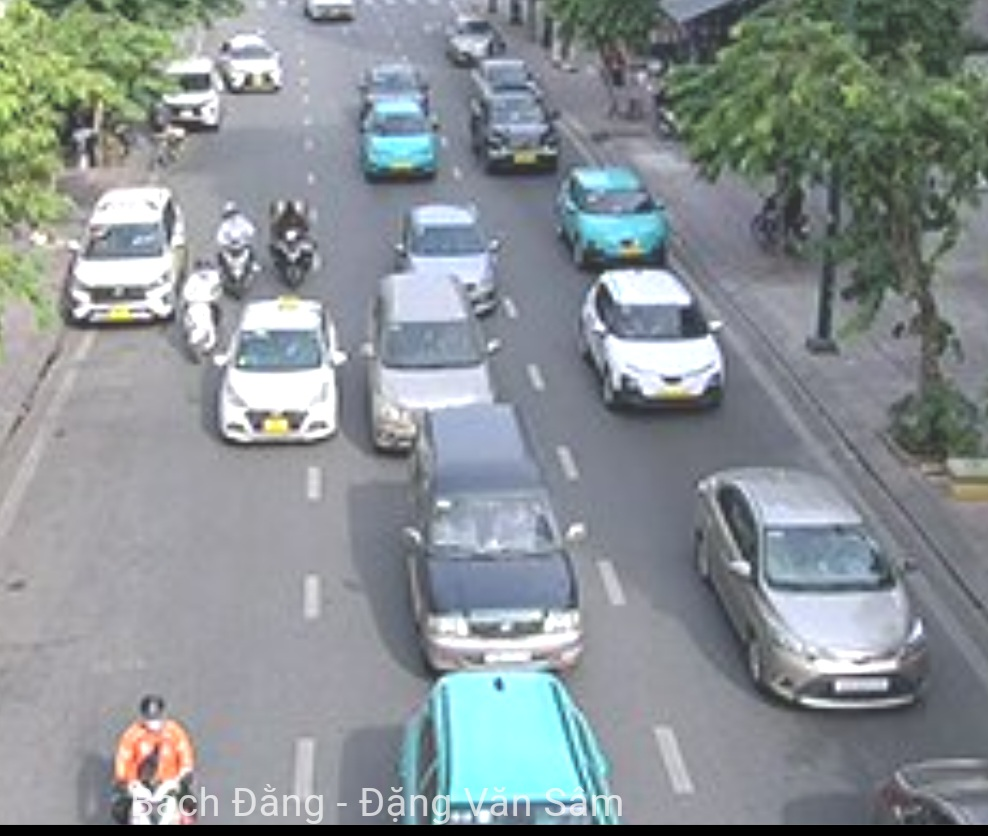car: (689, 457, 929, 716), (402, 416, 586, 672), (411, 663, 625, 827), (580, 268, 729, 418), (369, 276, 496, 447), (222, 300, 340, 452), (64, 192, 194, 327), (557, 159, 672, 272), (392, 199, 500, 313), (476, 98, 559, 180), (360, 102, 440, 183), (154, 58, 221, 132), (218, 28, 287, 98)
